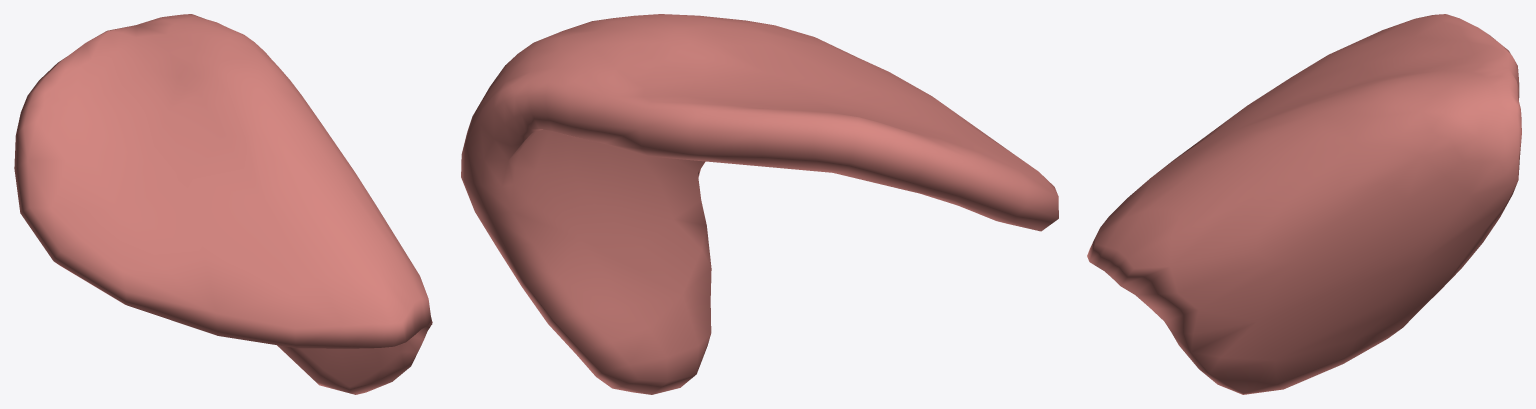
3 renders of one model, left to right at view 1: azimuth 30°, elevation 25°; view 2: azimuth 150°, elevation 25°; view 3: azimuth 270°, elevation 25°, orthographic. The views are drawn at different scales.
Parts seen in each view (by area): view 1: ZA_d1b48af8e30669e5; view 2: ZA_d1b48af8e30669e5; view 3: ZA_d1b48af8e30669e5.
Boxes of the visible parts, x1=… form: ZA_d1b48af8e30669e5: x1=14, y1=14, x2=432, y2=394; ZA_d1b48af8e30669e5: x1=461, y1=14, x2=1058, y2=394; ZA_d1b48af8e30669e5: x1=1087, y1=14, x2=1521, y2=394.
Size of the model in its own units: 0.00478 by 0.00422 by 0.0058.
